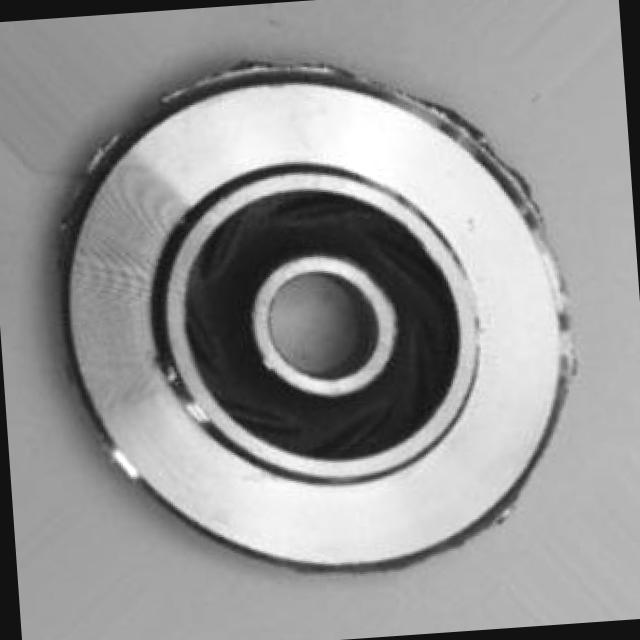Defect: (224, 44, 283, 84)
